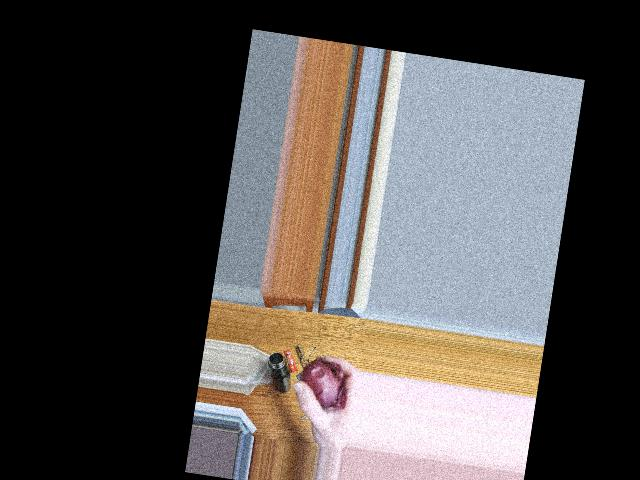onion: (296, 358, 346, 411)
